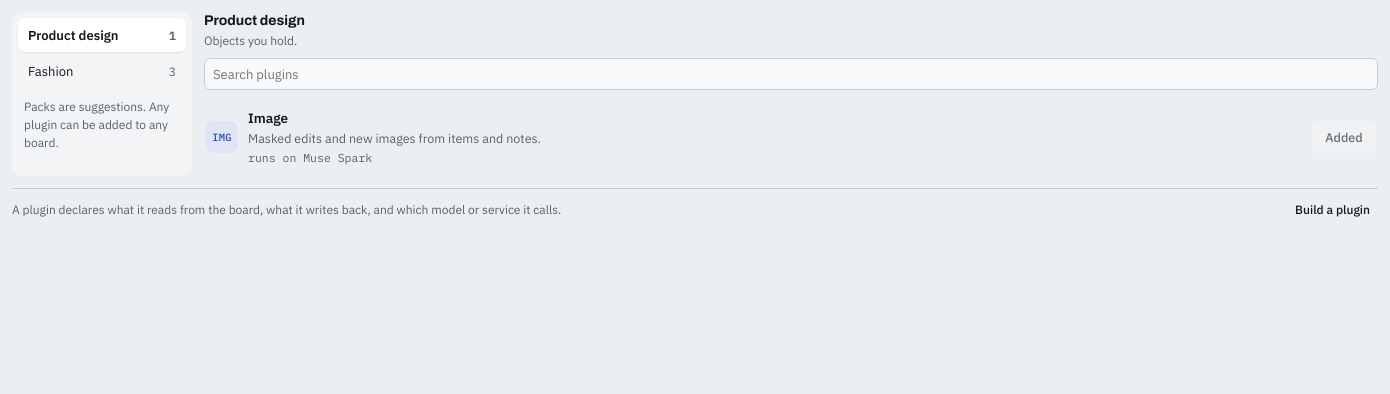
Test: PluginsPanel › Add and Added are disabled on a locked demo
The image size is (1390, 394).
Click the button "Fashion 3". click: x=102, y=71
box: [18, 54, 186, 88]
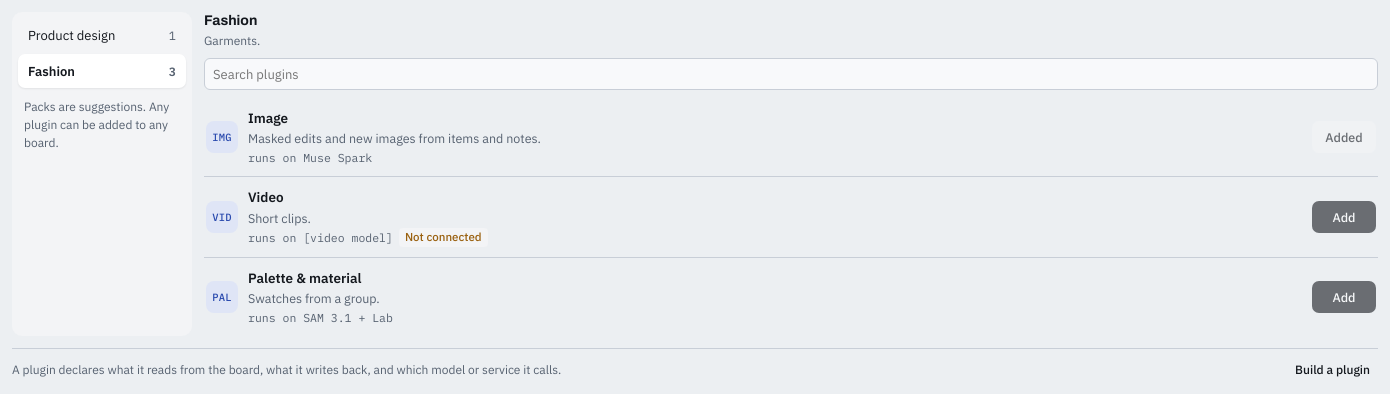
expect the button named "Added Image" is disabled: met, box [1312, 121, 1376, 153]
expect the button named "Add Video" is disabled: met, box [1312, 201, 1376, 233]
